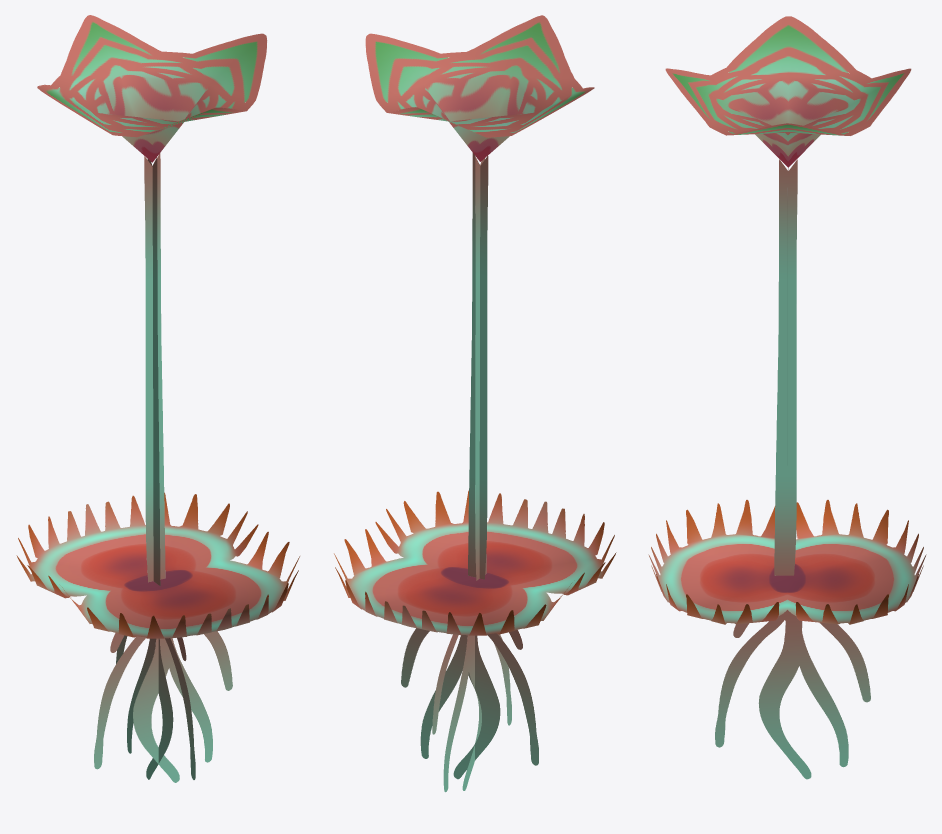
Rendered from Lach.fbx.
3 views of the same model, side by side, from view 1: azimuth 30°, elevation 25°; view 2: azimuth 150°, elevation 25°; view 3: azimuth 270°, elevation 25° (orthographic). The views are drawn at different scales.
Parts seen in each view (by area): view 1: Lach; view 2: Lach; view 3: Lach.
Part boxes in pixels (box(x1,y1,x2,y2)): Lach: box(16, 15, 299, 782); Lach: box(334, 15, 616, 792); Lach: box(648, 16, 926, 779).
Bounding box in the file's own units: 90.83 × 271 × 96.68.
